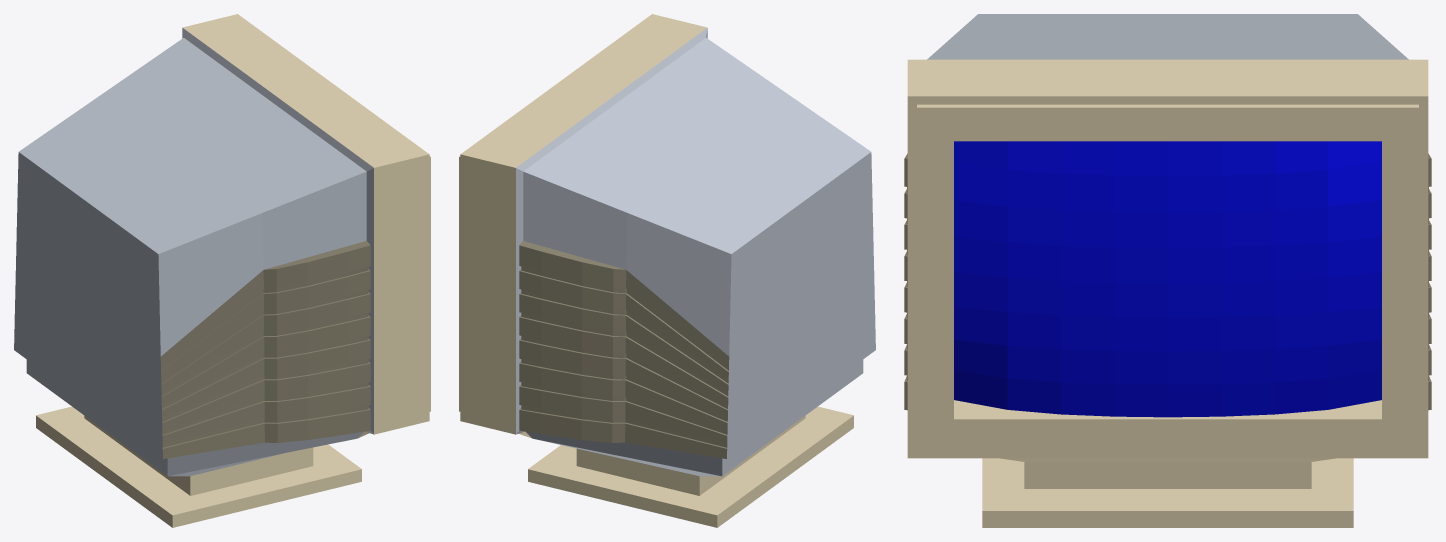
Rendered from Computer.fbx.
The picture shows the model from 3 angles, left to right: view 1: azimuth 30°, elevation 25°; view 2: azimuth 150°, elevation 25°; view 3: azimuth 270°, elevation 25°; orthographic projection. The views are drawn at different scales.
Visible parts, largest first — view 1: Computer; view 2: Computer; view 3: Computer.
Boxes of the visible parts, x1,y1,x2,y2 form: Computer: (14, 14, 430, 527); Computer: (459, 14, 875, 527); Computer: (904, 14, 1431, 527).
Size of the model in its own units: 160 by 204 by 212.
